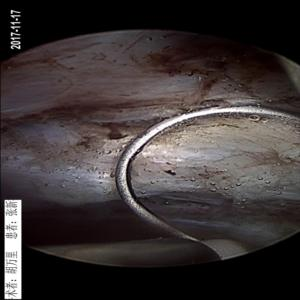film: (8, 85, 274, 149), (33, 193, 288, 244)
